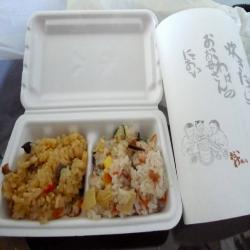rice: (94, 138, 164, 213)
